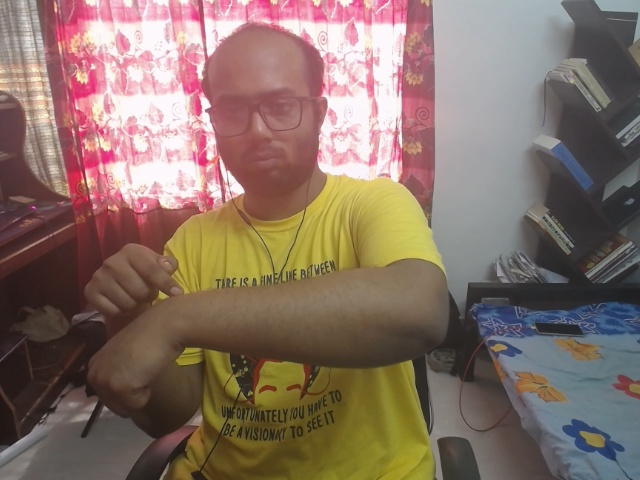time: (64, 236, 260, 444)
